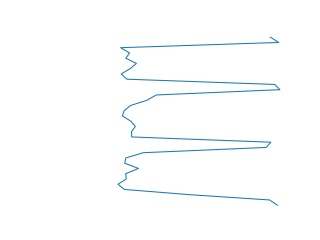majorRiverChannelBar: (118, 39, 283, 207)
